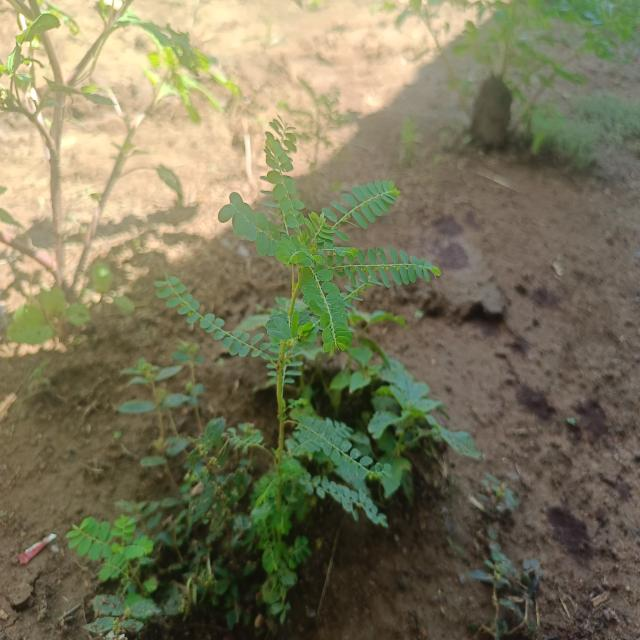weed: (66, 120, 483, 628)
